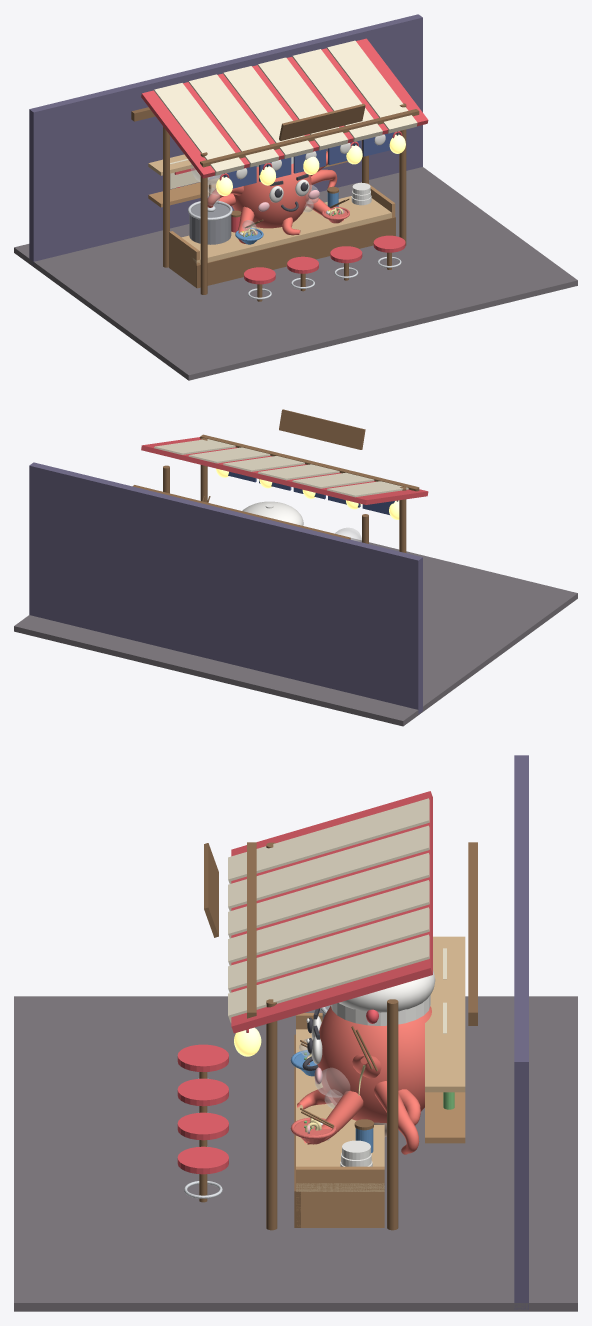
Rendered from octopus_ramen_booth.glb.
3 renders of one model, top to bottom at view 1: azimuth 30°, elevation 25°; view 2: azimuth 150°, elevation 25°; view 3: azimuth 270°, elevation 25°, orthographic. The views are drawn at different scales.
Visible parts, largest first — view 1: Floor, BackWall, Awning, CounterFront, CounterTop, Stripe1, Stripe5, Stripe0, Stripe2, Stripe4, OctoHead, Stripe3 (+13 smaller); view 2: BackWall, Floor, Awning, Sign, Beam, HatTop, Stripe4, Stripe1, Stripe3, Stripe5, Stripe2, Stripe0 (+2 smaller); view 3: Floor, Awning, BackWall, OctoHead, BackShelfTop, CounterSideR, Stripe4, Stripe1, Stripe2, Stripe3, Stripe0, Stripe5 (+16 smaller).
Boxes of the visible parts, x1,y1,x2,y2 form: Floor: [14, 167, 577, 380]; BackWall: [29, 14, 422, 265]; Awning: [141, 38, 428, 178]; CounterFront: [196, 217, 395, 288]; CounterTop: [181, 196, 391, 264]; Stripe1: [188, 74, 278, 167]; Stripe5: [327, 40, 417, 133]; Stripe0: [154, 83, 244, 175]; Stripe2: [223, 66, 313, 158]; Stripe4: [292, 49, 382, 141]; OctoHead: [232, 163, 311, 228]; Stripe3: [258, 57, 348, 150]; BackWall: [29, 462, 422, 714]; Floor: [14, 538, 577, 726]; Awning: [141, 437, 428, 504]; Sign: [279, 409, 365, 449]; Beam: [200, 434, 419, 491]; HatTop: [242, 501, 303, 525]; Stripe4: [188, 446, 278, 463]; Stripe1: [292, 472, 379, 488]; Stripe3: [223, 455, 309, 471]; Stripe5: [154, 438, 238, 454]; Stripe2: [258, 463, 346, 480]; Stripe0: [327, 480, 416, 497]; Floor: [14, 996, 577, 1311]; Awning: [231, 791, 432, 1033]; BackWall: [514, 755, 528, 1309]; OctoHead: [317, 1006, 431, 1123]; BackShelfTop: [425, 936, 465, 1092]; CounterSideR: [296, 1166, 384, 1227]; Stripe4: [228, 907, 429, 992]; Stripe1: [228, 825, 429, 910]; Stripe2: [228, 853, 429, 938]; Stripe3: [228, 880, 429, 965]; Stripe0: [228, 798, 429, 883]; Stripe5: [228, 934, 429, 1022].
Bounding box in the file's own units: 9 × 4.26 × 7.
